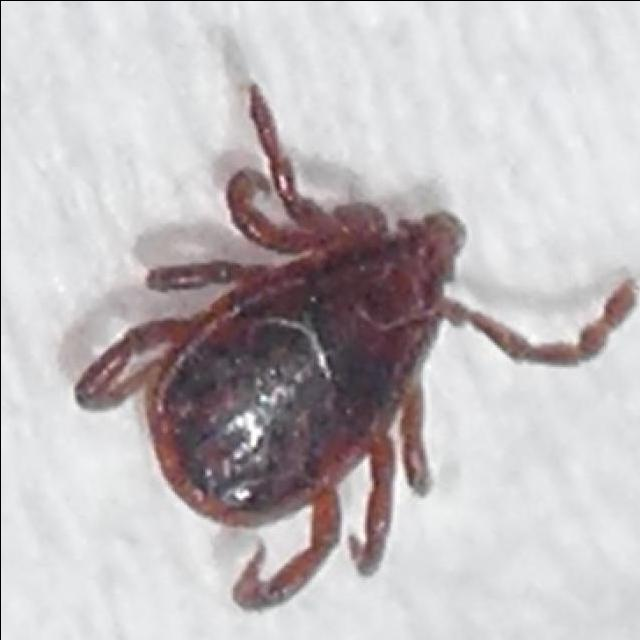Rhipicephalus Sanguineus-M: (72, 82, 638, 609)
